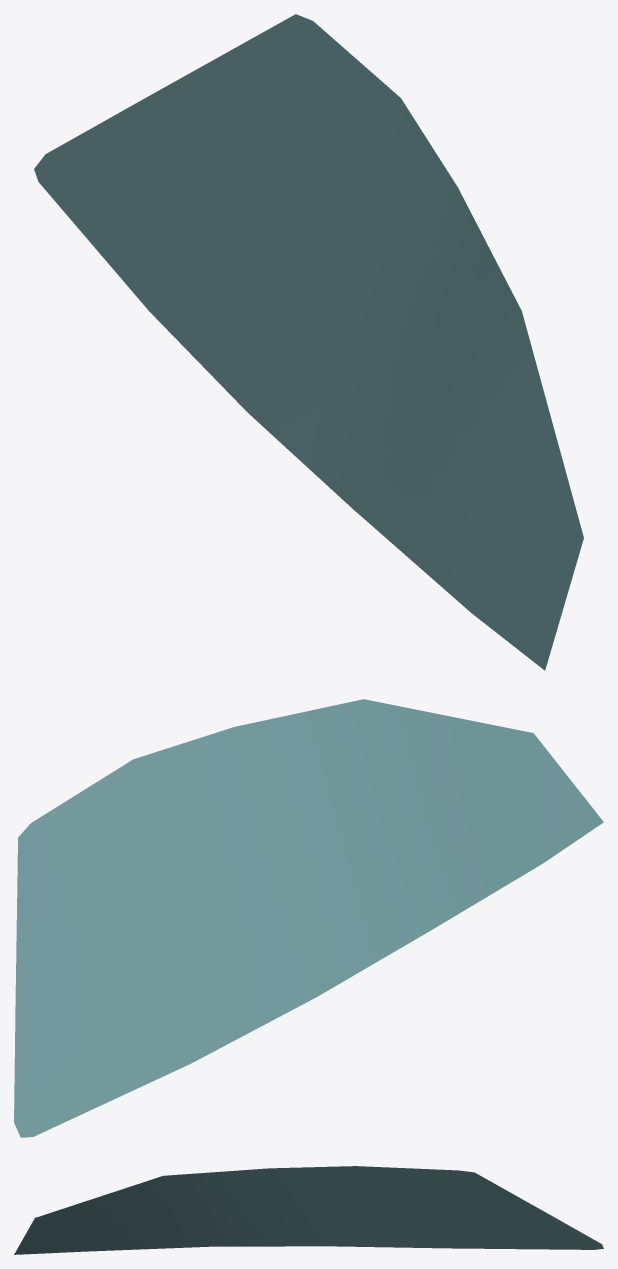
File: Electric_2_Window_Tessellate_R.fbx
The picture shows the model from 3 angles, top to bottom: view 1: azimuth 30°, elevation 25°; view 2: azimuth 150°, elevation 25°; view 3: azimuth 270°, elevation 25°; orthographic projection. The views are drawn at different scales.
Visible parts, largest first — view 1: Electric_2_Window_Tessellate_R; view 2: Electric_2_Window_Tessellate_R; view 3: Electric_2_Window_Tessellate_R.
Part boxes in pixels (x1,y1,x2,y2): Electric_2_Window_Tessellate_R: (34,14,583,670); Electric_2_Window_Tessellate_R: (14,699,603,1137); Electric_2_Window_Tessellate_R: (14,1166,603,1254).
Size of the model in its own units: 26.69 by 32.61 by 127.
